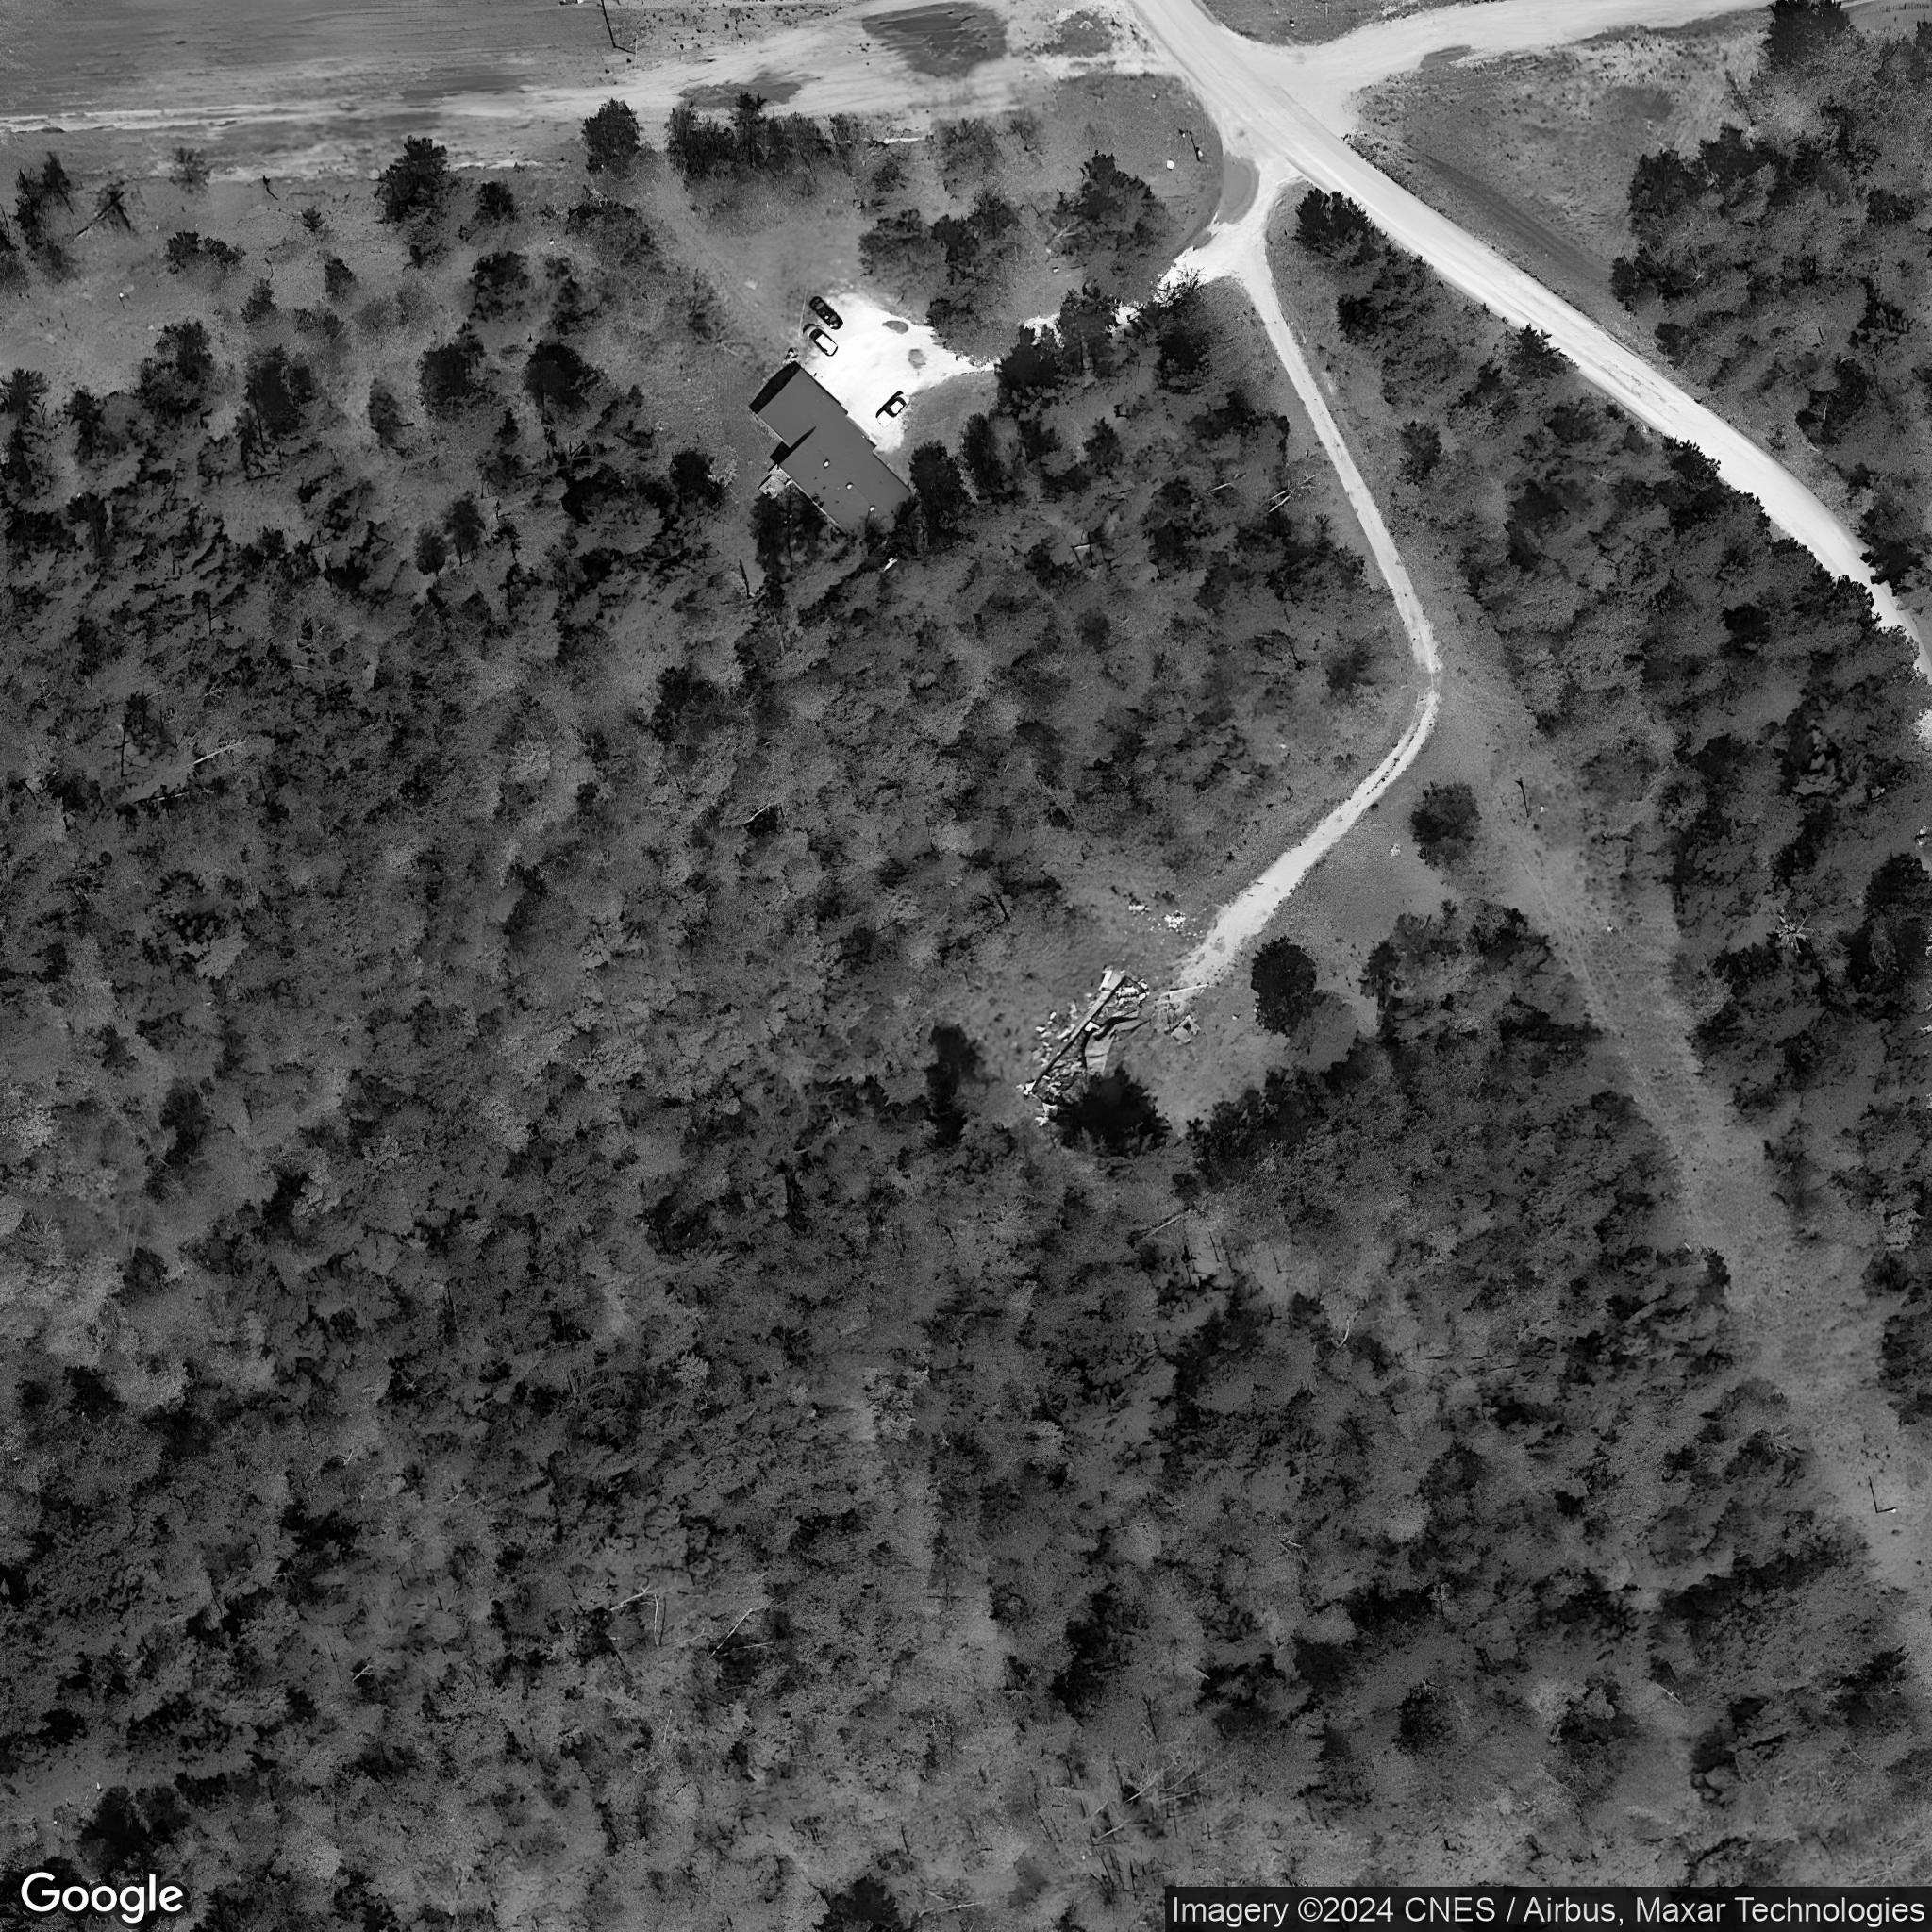House: (754, 364, 924, 556)
